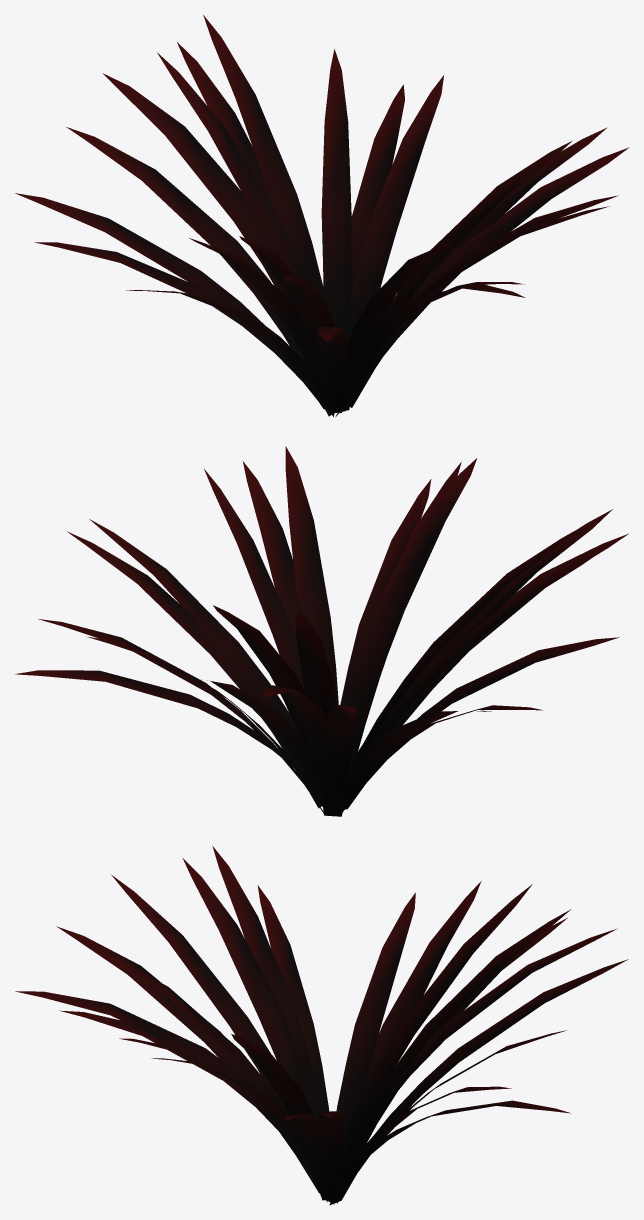
Rendered from Grass01C.fbx.
The picture shows the model from 3 angles, top to bottom: view 1: azimuth 30°, elevation 25°; view 2: azimuth 150°, elevation 25°; view 3: azimuth 270°, elevation 25°; orthographic projection. The views are drawn at different scales.
Visible parts, largest first — view 1: Grass01C; view 2: Grass01C; view 3: Grass01C.
Boxes of the visible parts, x1,y1,x2,y2 form: Grass01C: [15, 15, 629, 416]; Grass01C: [15, 446, 628, 816]; Grass01C: [15, 846, 628, 1205].
Bounding box in the file's own units: 2.14 × 1.19 × 2.29.
